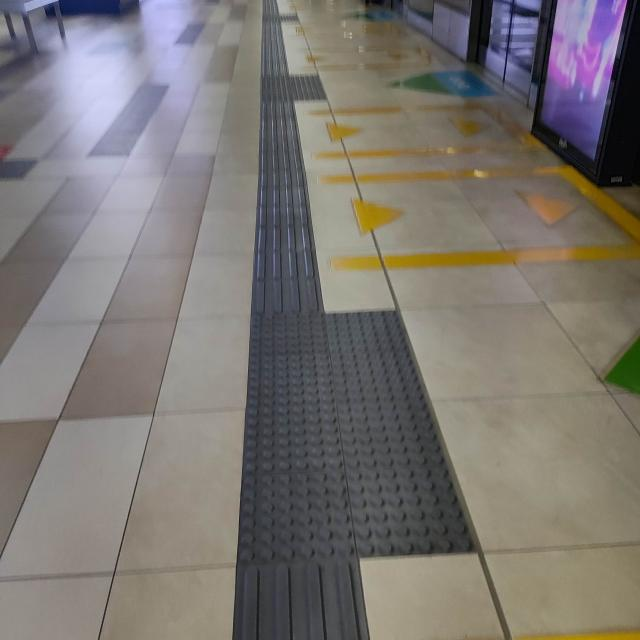lurus: (238, 28, 345, 640)
